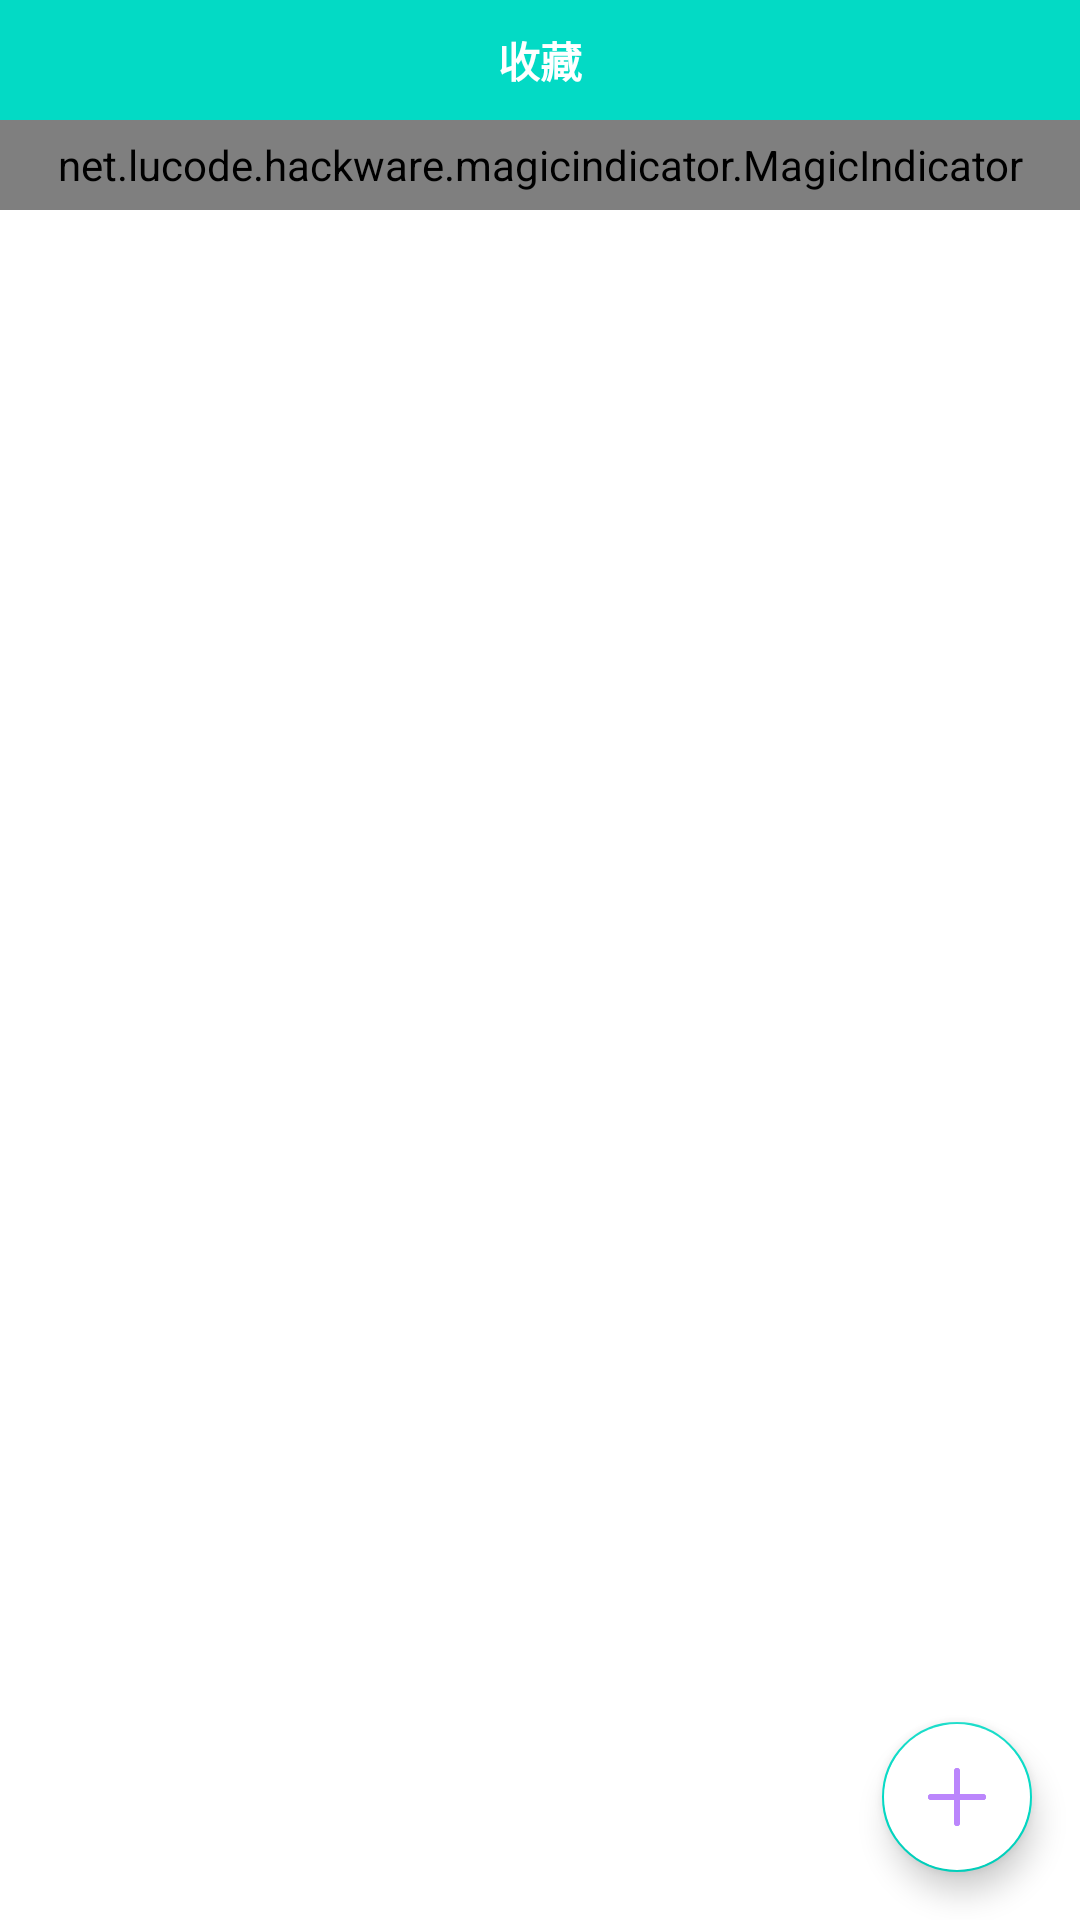

Where to tap for icons on this 1080px×1920px app screen, as point (x, y):
add: point (957, 1797)
